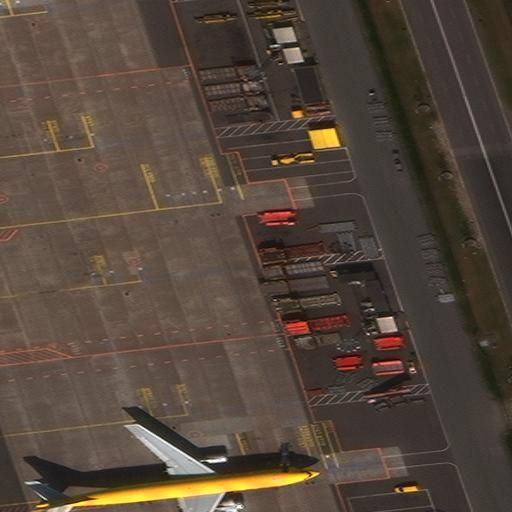Large Civil Transport: (24, 417, 324, 512)
